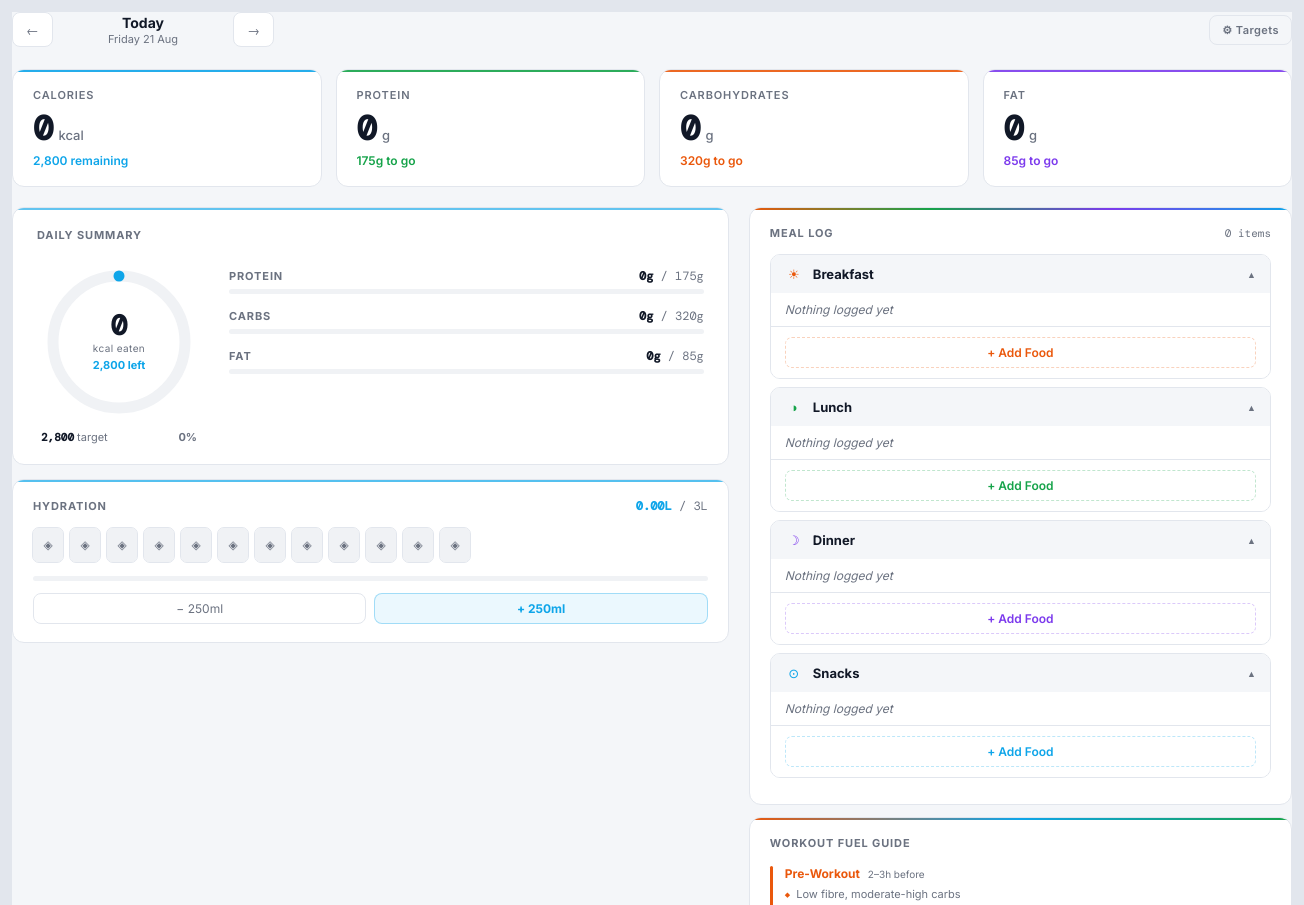
Test: Nutrition page › clicking ← shows TODAY button
Expected: the text "Today" is shown, [122,14,164,30]
Click the button "←" at (32, 30), box [12,12,53,47]
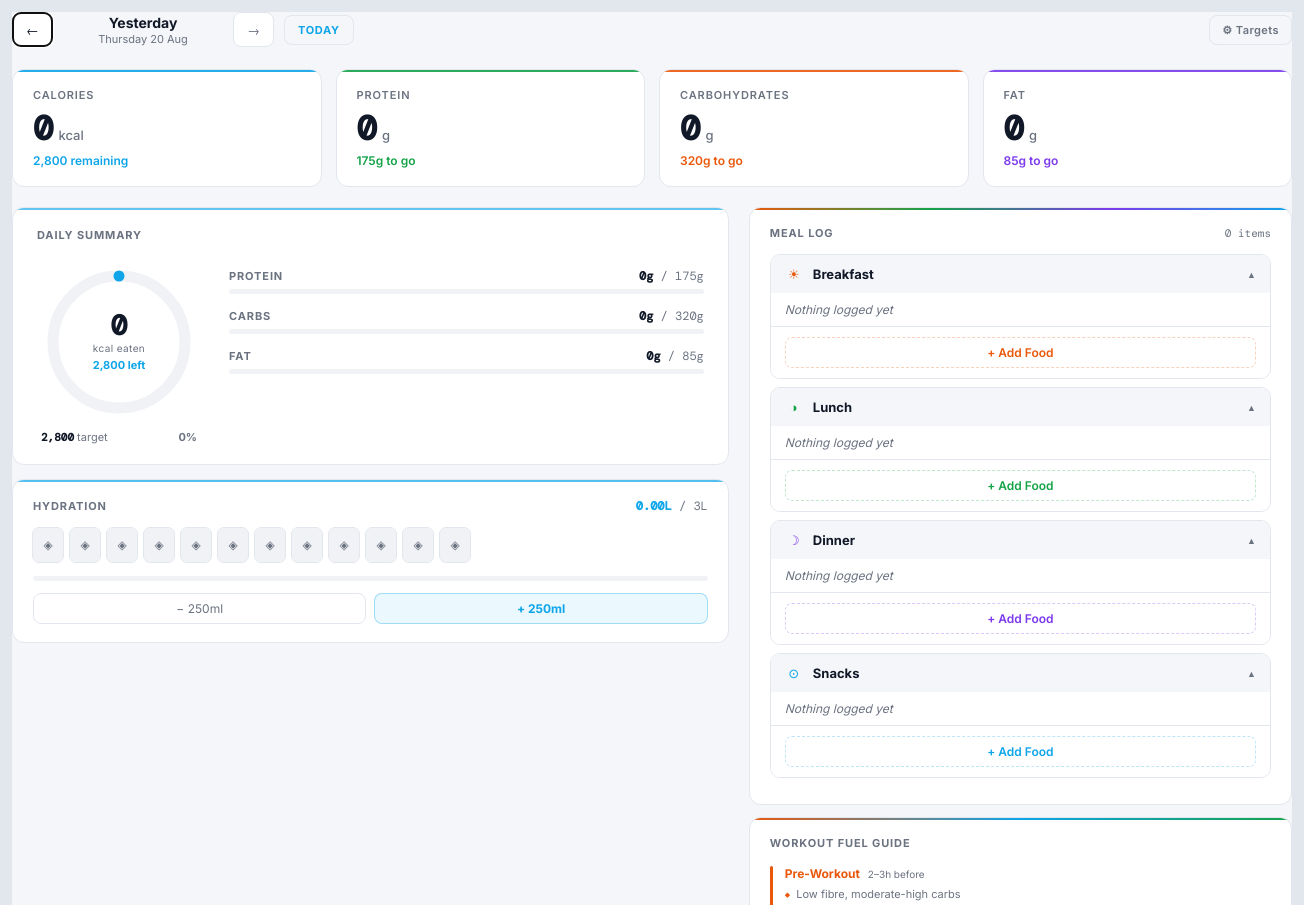
Expected: the button "TODAY" is shown, [284,14,354,44]
Result: the text "Yesterday" is shown at [109,14,177,30]
